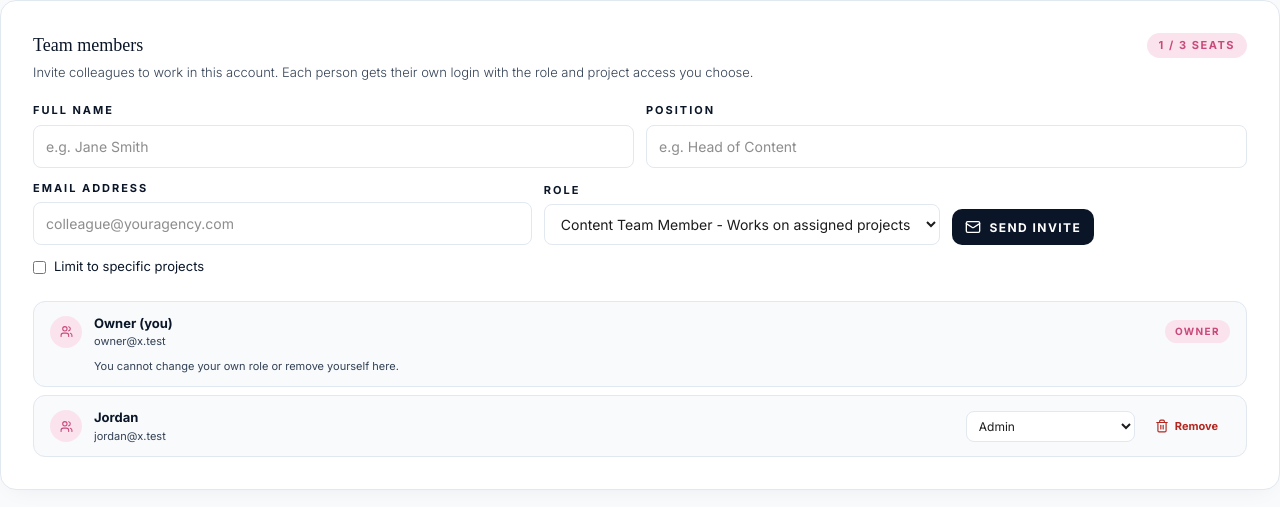
Test: TeamSection team modes › removes stale role controls when the authoritative post-change refresh fails
Select "Viewer" in the dropdown named "Role for Jordan". click: x=1050, y=426
box: [966,411,1135,442]
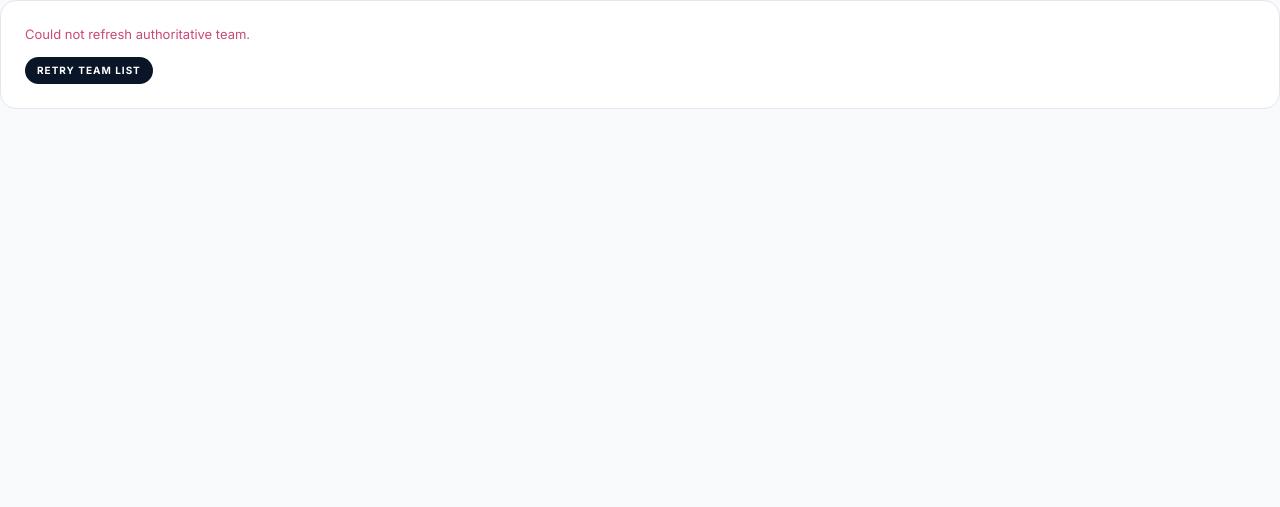
Expected: the message shows "Could not refresh authoritative team.", [25,26,250,42]
Expected: the button "Retry team list" is shown, [25,56,153,84]
